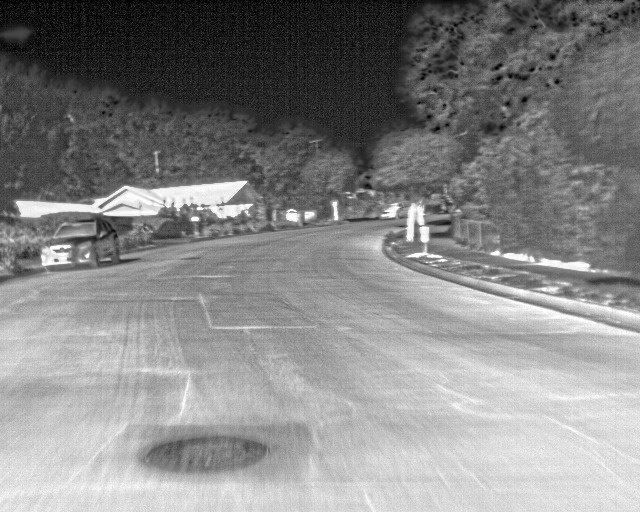vehicle: (37, 215, 123, 266)
